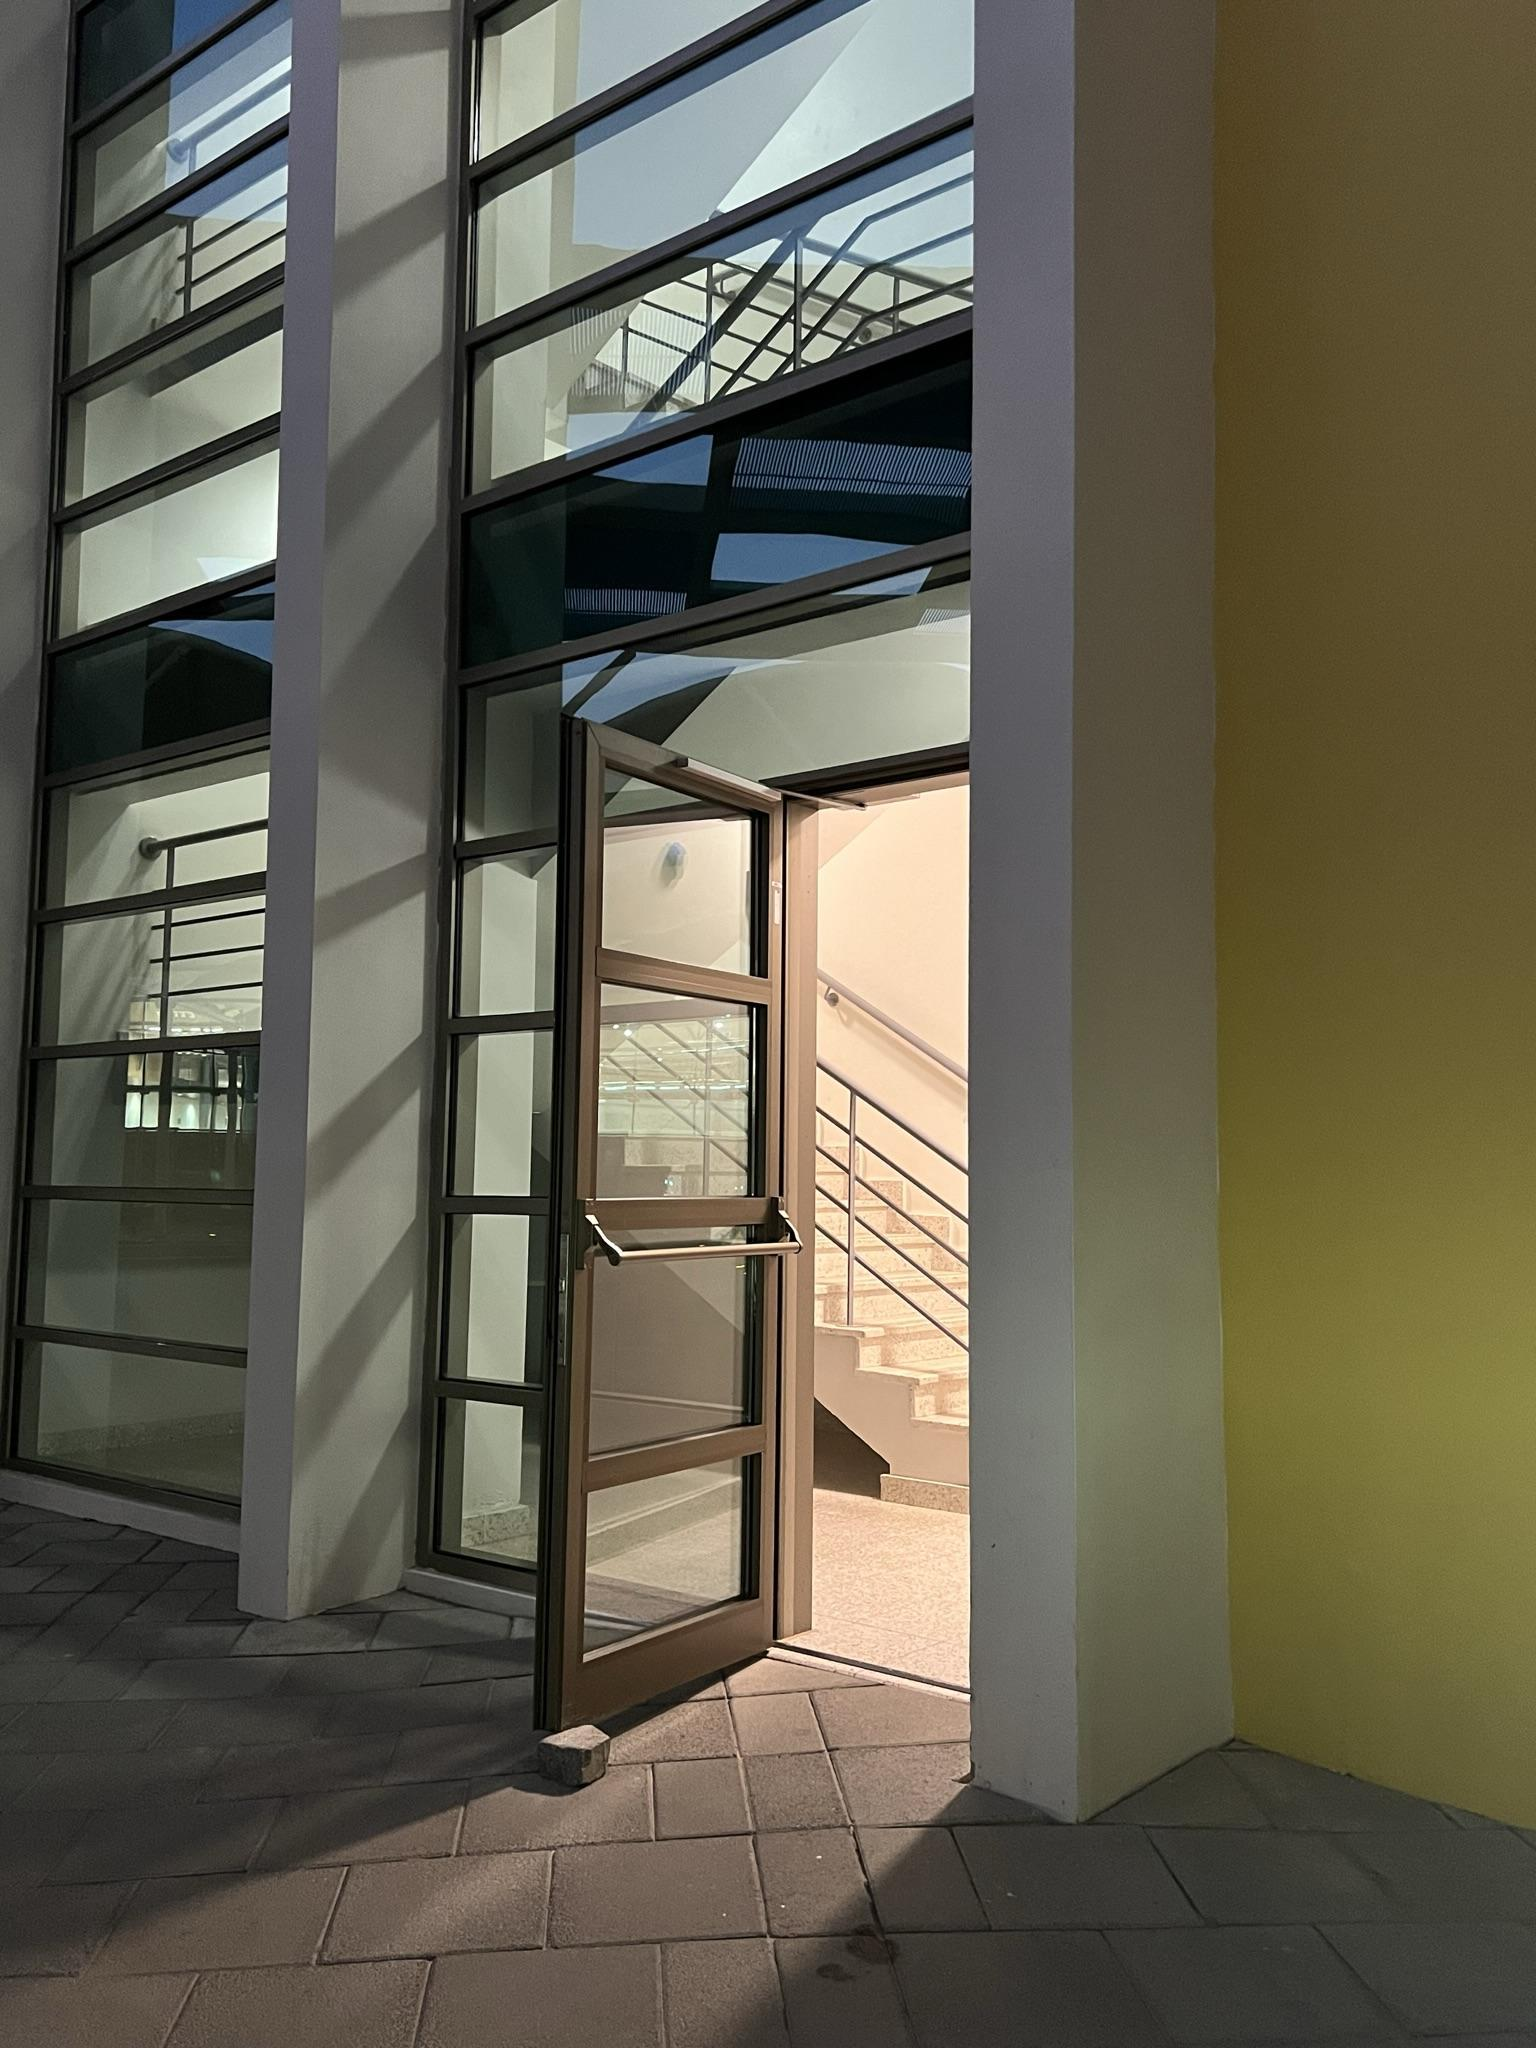door: (555, 742, 789, 1717)
handle: (571, 1201, 808, 1271)
